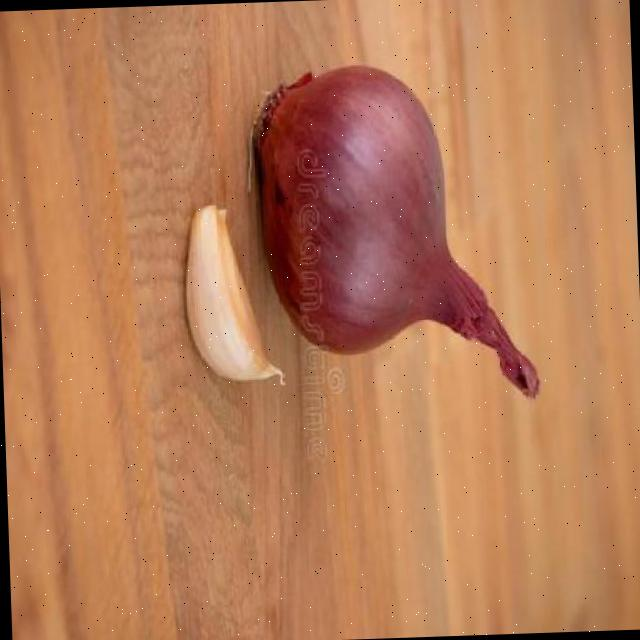Onion: (250, 62, 538, 401)
